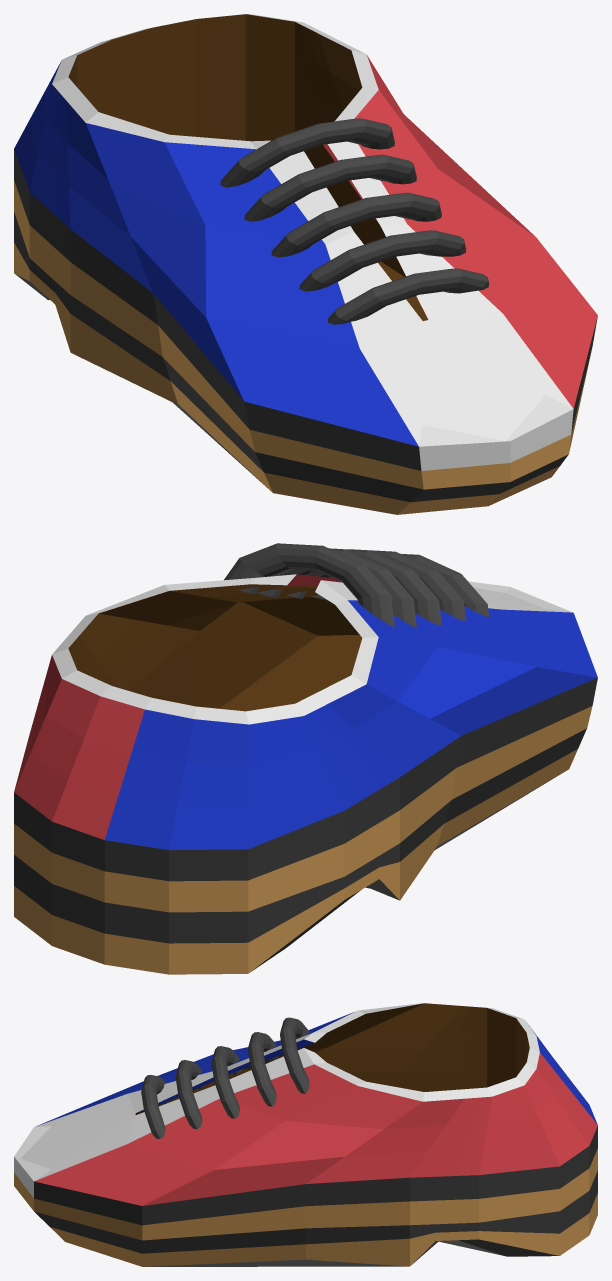
Rendered from Bowling Shoe.fbx.
The picture shows the model from 3 angles, top to bottom: view 1: azimuth 30°, elevation 25°; view 2: azimuth 150°, elevation 25°; view 3: azimuth 270°, elevation 25°; orthographic projection. The views are drawn at different scales.
Visible parts, largest first — view 1: Bowling Shoe; view 2: Bowling Shoe; view 3: Bowling Shoe.
Part boxes in pixels (x1,y1,x2,y2): Bowling Shoe: (14, 14, 597, 514); Bowling Shoe: (14, 543, 597, 974); Bowling Shoe: (14, 1003, 597, 1266).
Size of the model in its own units: 201 by 141 by 400.
